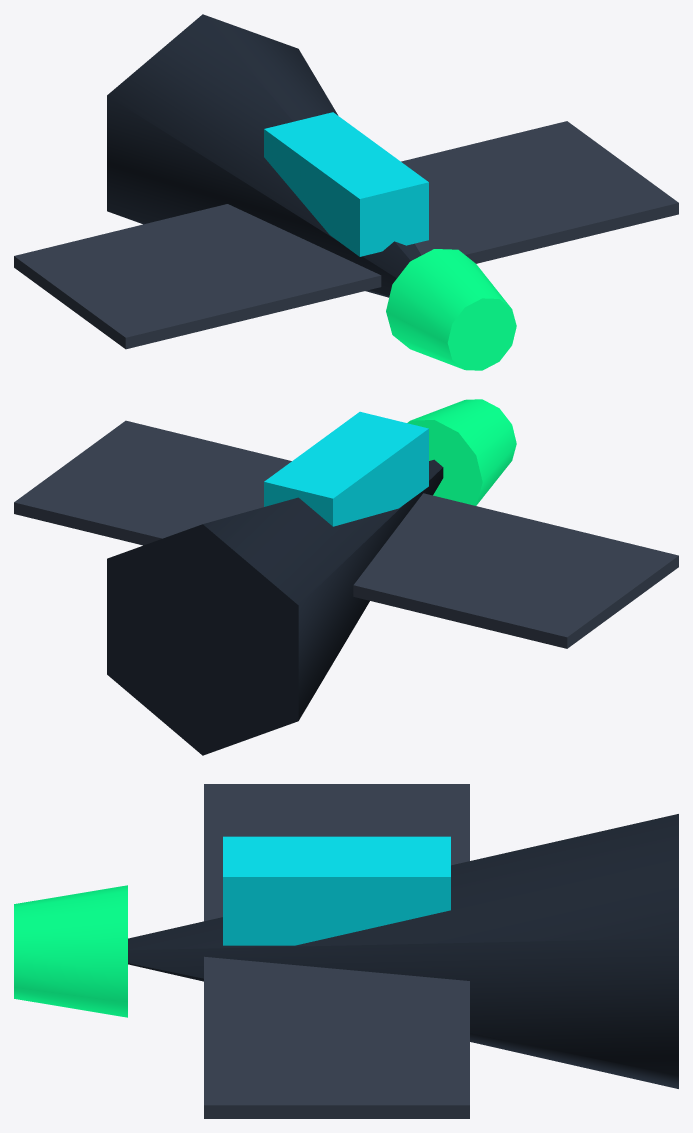
File: spaceship.glb
The picture shows the model from 3 angles, top to bottom: view 1: azimuth 30°, elevation 25°; view 2: azimuth 150°, elevation 25°; view 3: azimuth 270°, elevation 25°; orthographic projection. The views are drawn at different scales.
Size of the model in its own units: 4 by 1.6 by 3.5.
